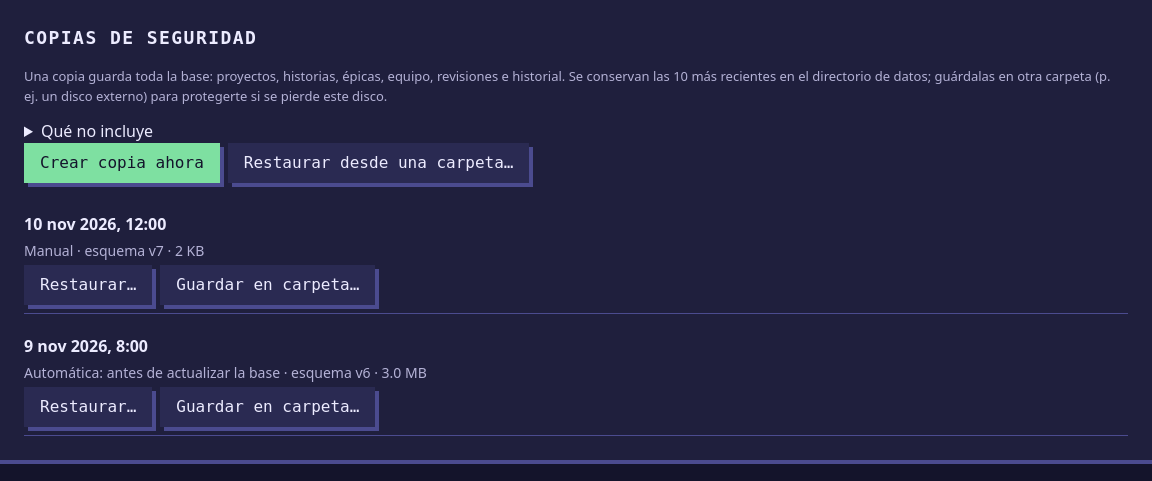
it: BackupPanel › guarda una copia en otra carpeta
Expected: the text "Manual · esquema v7 · 2 KB" is shown, [24,241,204,260]
What coordinates should you click on to do the following:
click the button "Guardar en carpeta…" below "10 nov 2026, 12:00"
I would click on:
 (268, 285)
Its box is [160,265,375,305].
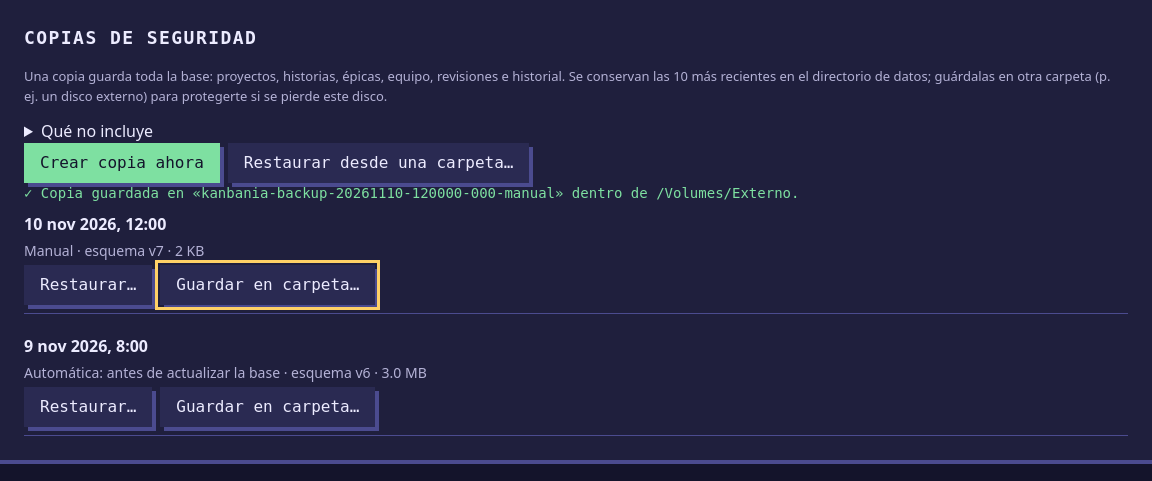
Expected: the message shows "Copia guardada en «kanbania-backup-20261110-120000-000-manual»", [24,185,800,201]
